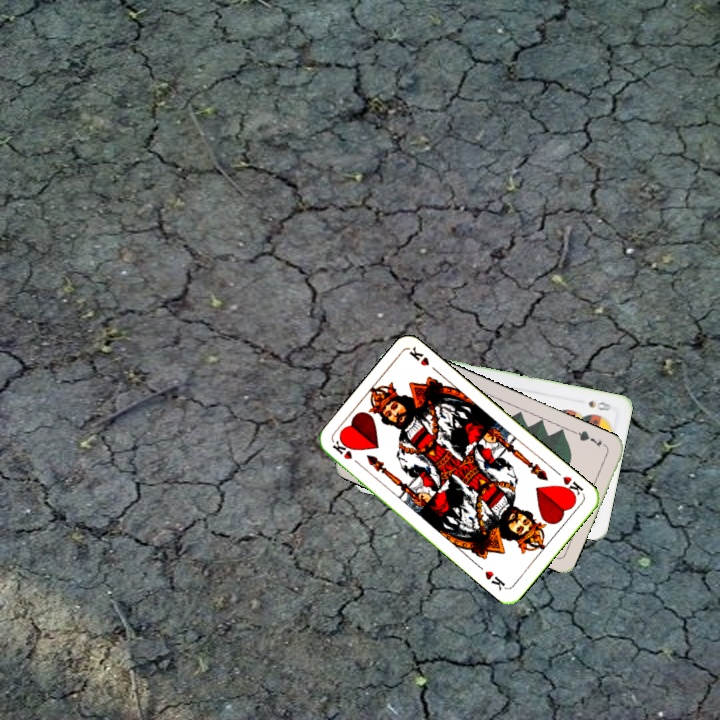G7: (571, 426, 609, 450)
HK: (328, 436, 364, 469), (558, 472, 586, 501)
S8: (584, 396, 614, 413)
